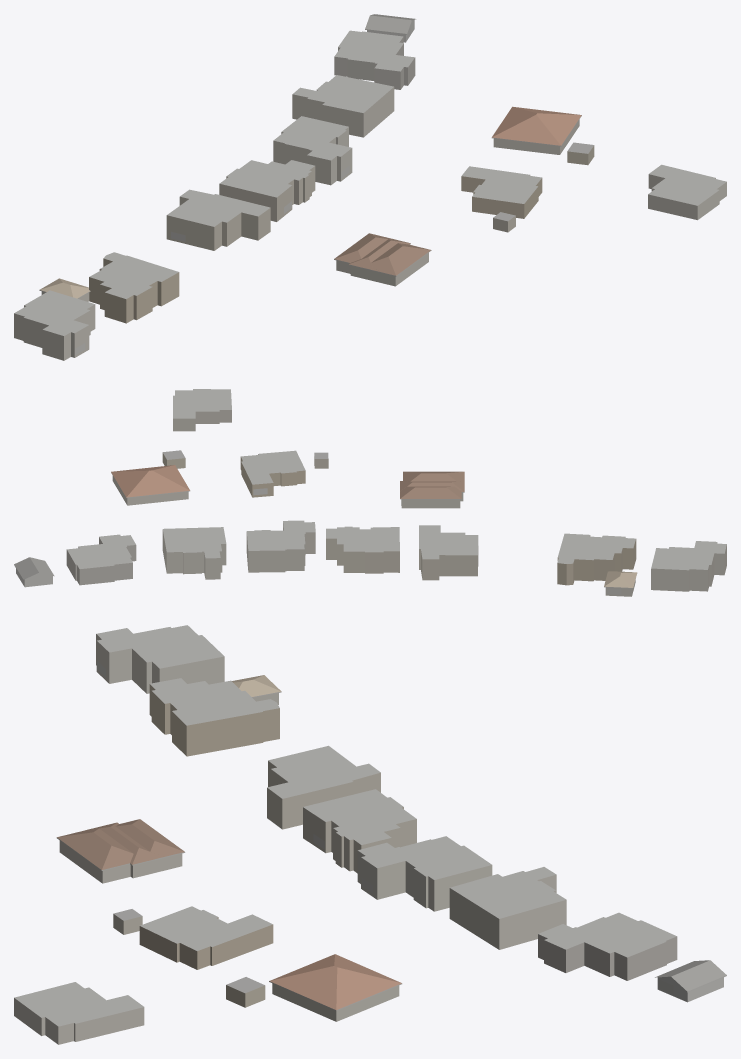
Rendered from buildings_r0_c5.glb.
3 views of the same model, one above another, from view 1: azimuth 30°, elevation 25°; view 2: azimuth 150°, elevation 25°; view 3: azimuth 270°, elevation 25° (orthographic). The views are drawn at different scales.
Visible parts, largest first — view 1: buildings_r0_c5; view 2: buildings_r0_c5; view 3: buildings_r0_c5.
Part boxes in pixels (x1,y1,x2,y2): buildings_r0_c5: (14, 14, 726, 360); buildings_r0_c5: (14, 389, 726, 596); buildings_r0_c5: (14, 625, 726, 1044).
Bounding box in the file's own units: 220 × 12.58 × 161.
